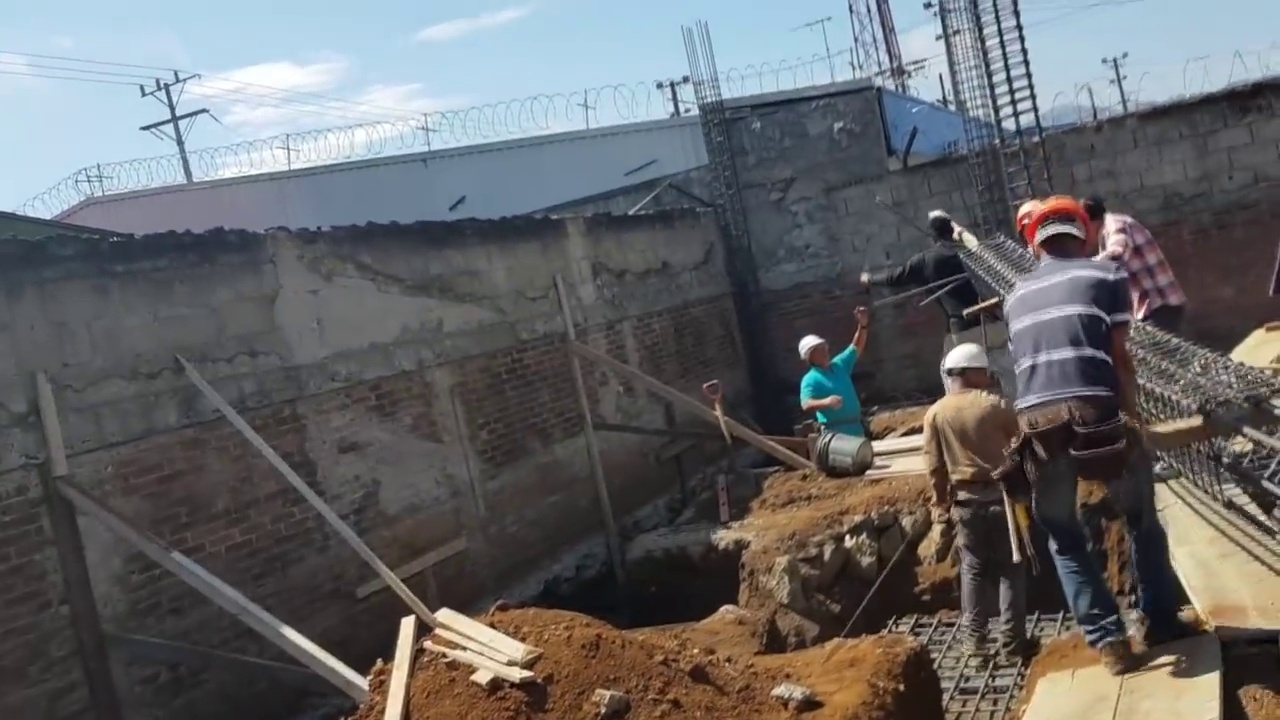helmet: (1020, 196, 1090, 255), (939, 341, 991, 377), (799, 333, 827, 362)
helmet-off: (1079, 195, 1108, 245), (926, 208, 955, 248)
helmet-on: (1021, 196, 1092, 270), (939, 341, 996, 402), (799, 333, 832, 368)
person: (1006, 189, 1199, 704), (928, 334, 1036, 654), (862, 207, 988, 334), (1083, 202, 1197, 338), (799, 305, 871, 453)
